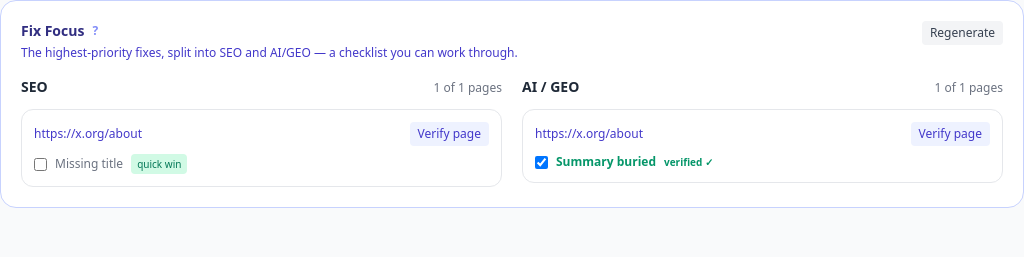
Test: FixFocusPanel › shows an error when a checklist toggle fails (sweep #4)
Check: the text "Missing title" is shown, box [55,156,123,172]
Click the checkbox named "Mark TITLE_MISSING fixed": (40, 164) [34,158,47,170]
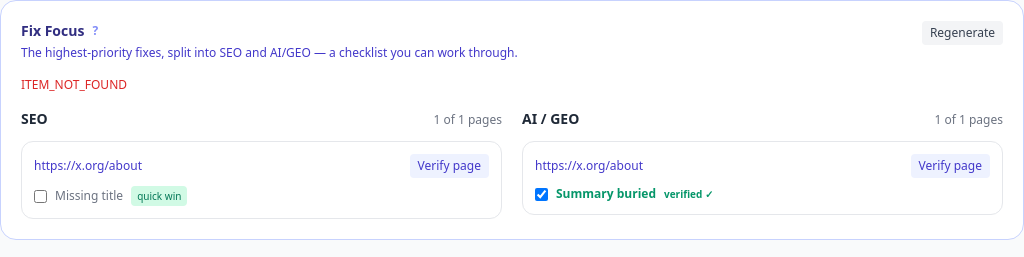
Check: the text "ITEM_NOT_FOUND" is shown, box [21,76,127,93]
